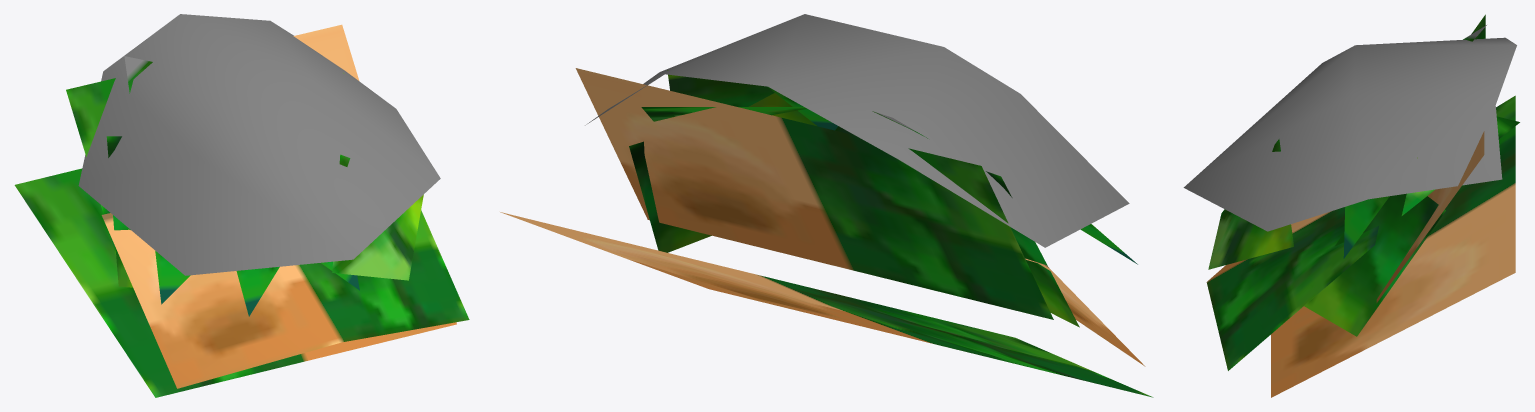
The model's file is fg_bushD_2_s.dae.
3 views of the same model, side by side, from view 1: azimuth 30°, elevation 25°; view 2: azimuth 150°, elevation 25°; view 3: azimuth 270°, elevation 25° (orthographic). The views are drawn at different scales.
Visible parts, largest first — view 1: fg_bushD_2_s; view 2: fg_bushD_2_s; view 3: fg_bushD_2_s.
Boxes of the visible parts, x1,y1,x2,y2 form: fg_bushD_2_s: (14, 14, 469, 397); fg_bushD_2_s: (500, 14, 1153, 397); fg_bushD_2_s: (1183, 14, 1519, 397).
Bounding box in the file's own units: 47.83 × 34.27 × 38.41.
Materials: 1 (1 with a texture image).
